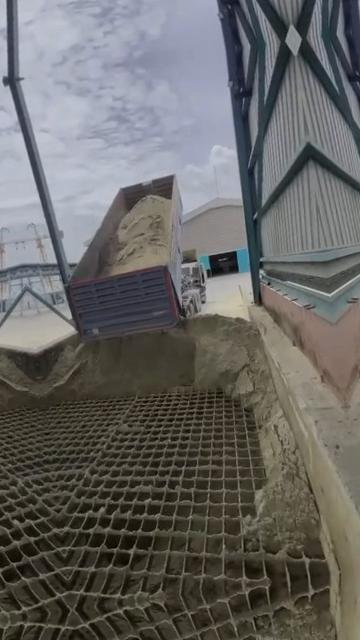sand: (40, 315, 320, 555), (101, 195, 171, 275)
